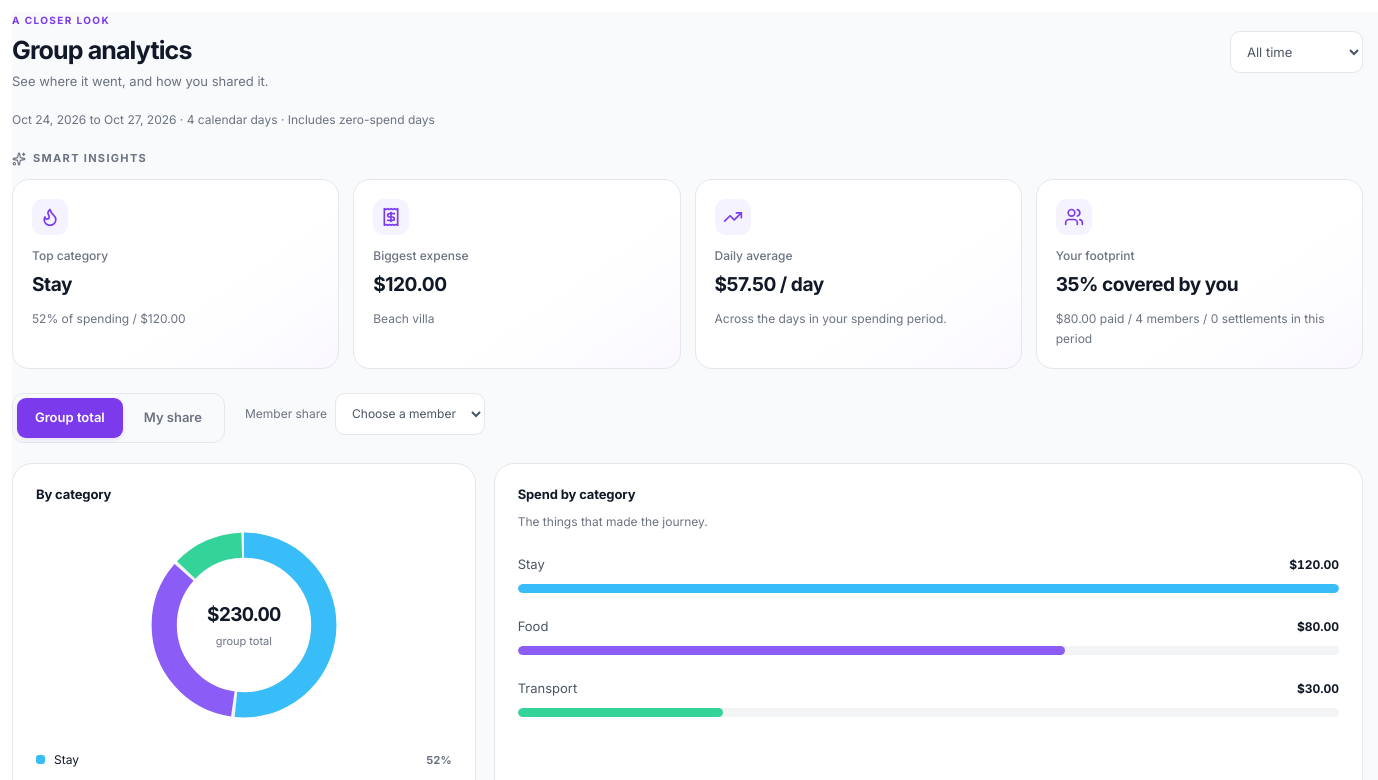
Test: switches to another member and a member with zero shares, then returns to my share
Select "Bob" in the dropdown labelled "Member share": (410, 414) [335,393,485,435]
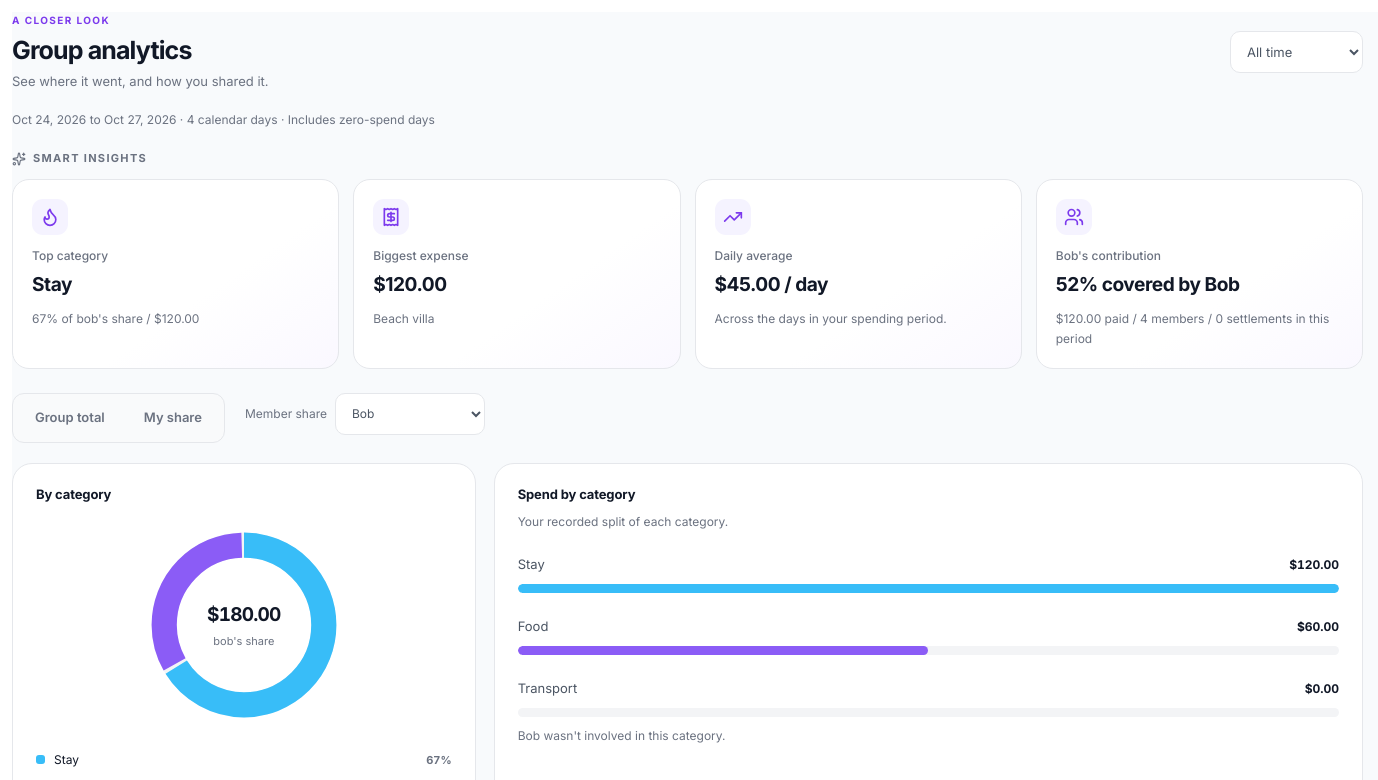
Expected: the text "$180.00" is shown, [207,600,281,630]
Select "Charlie" in the dropdown labelled "Member share": (410, 414) [335,393,485,435]
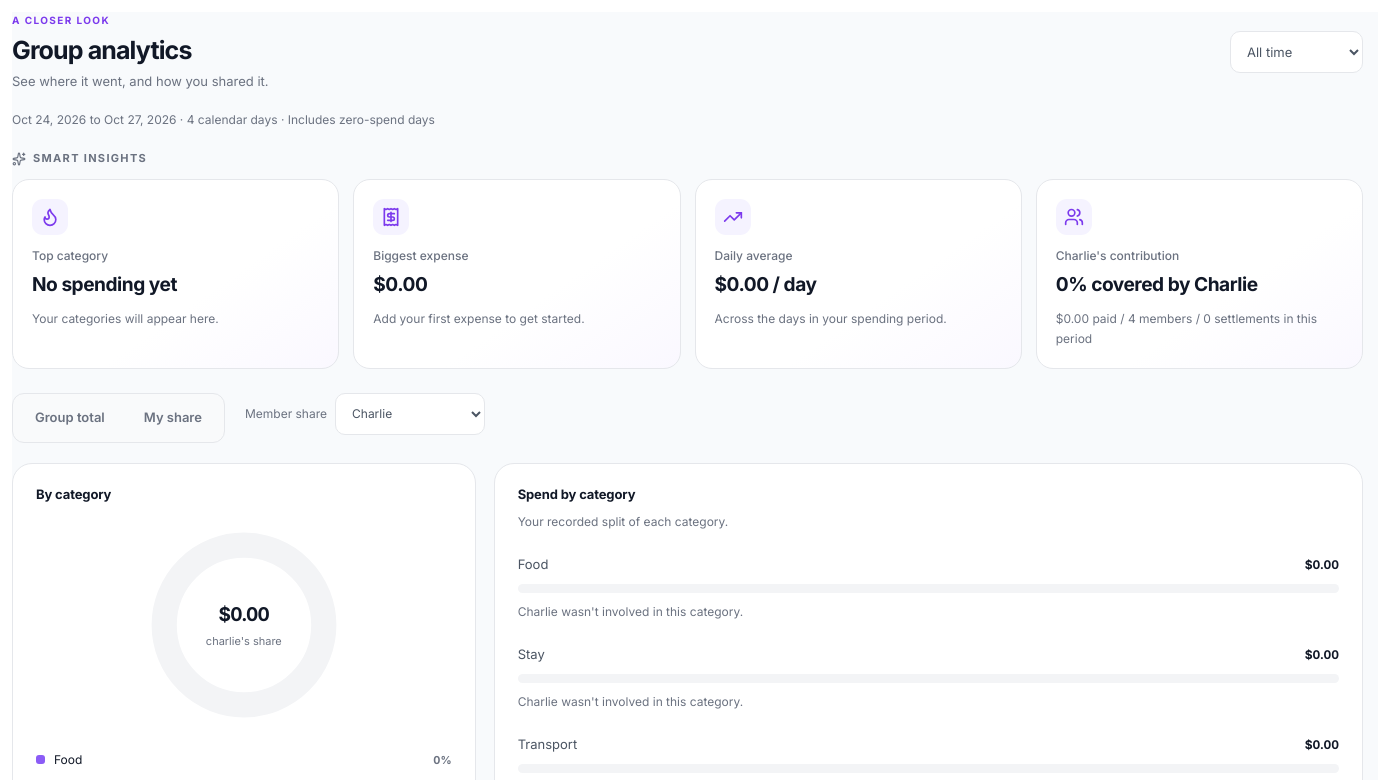
Expected: the heading "By category" is shown, [36,486,111,502]
Click the button "My share": (173, 418) [126,398,220,438]
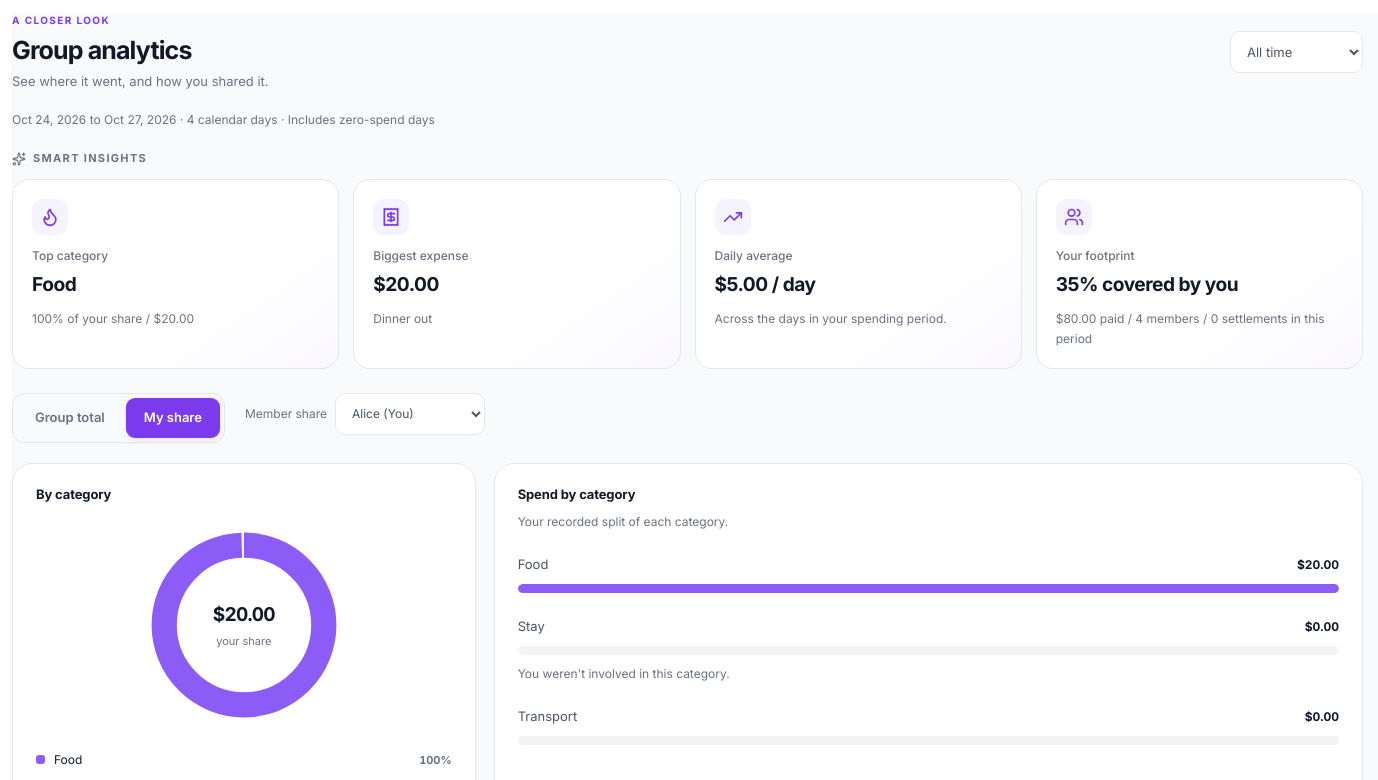
Expected: the 3rd text "$20.00" is shown, [213,600,275,630]
